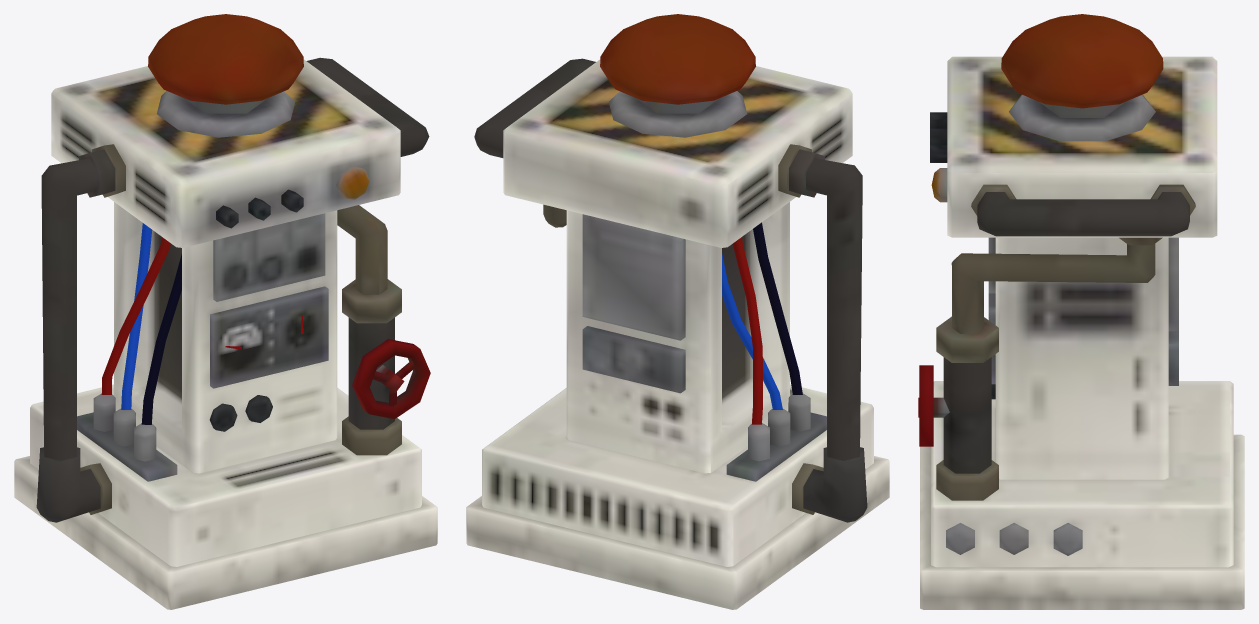
The picture shows the model from 3 angles, left to right: view 1: azimuth 30°, elevation 25°; view 2: azimuth 150°, elevation 25°; view 3: azimuth 270°, elevation 25°; orthographic projection. The views are drawn at different scales.
Size of the model in its own units: 7.63 by 10.53 by 6.04.
Materials: 1 (1 with a texture image).
